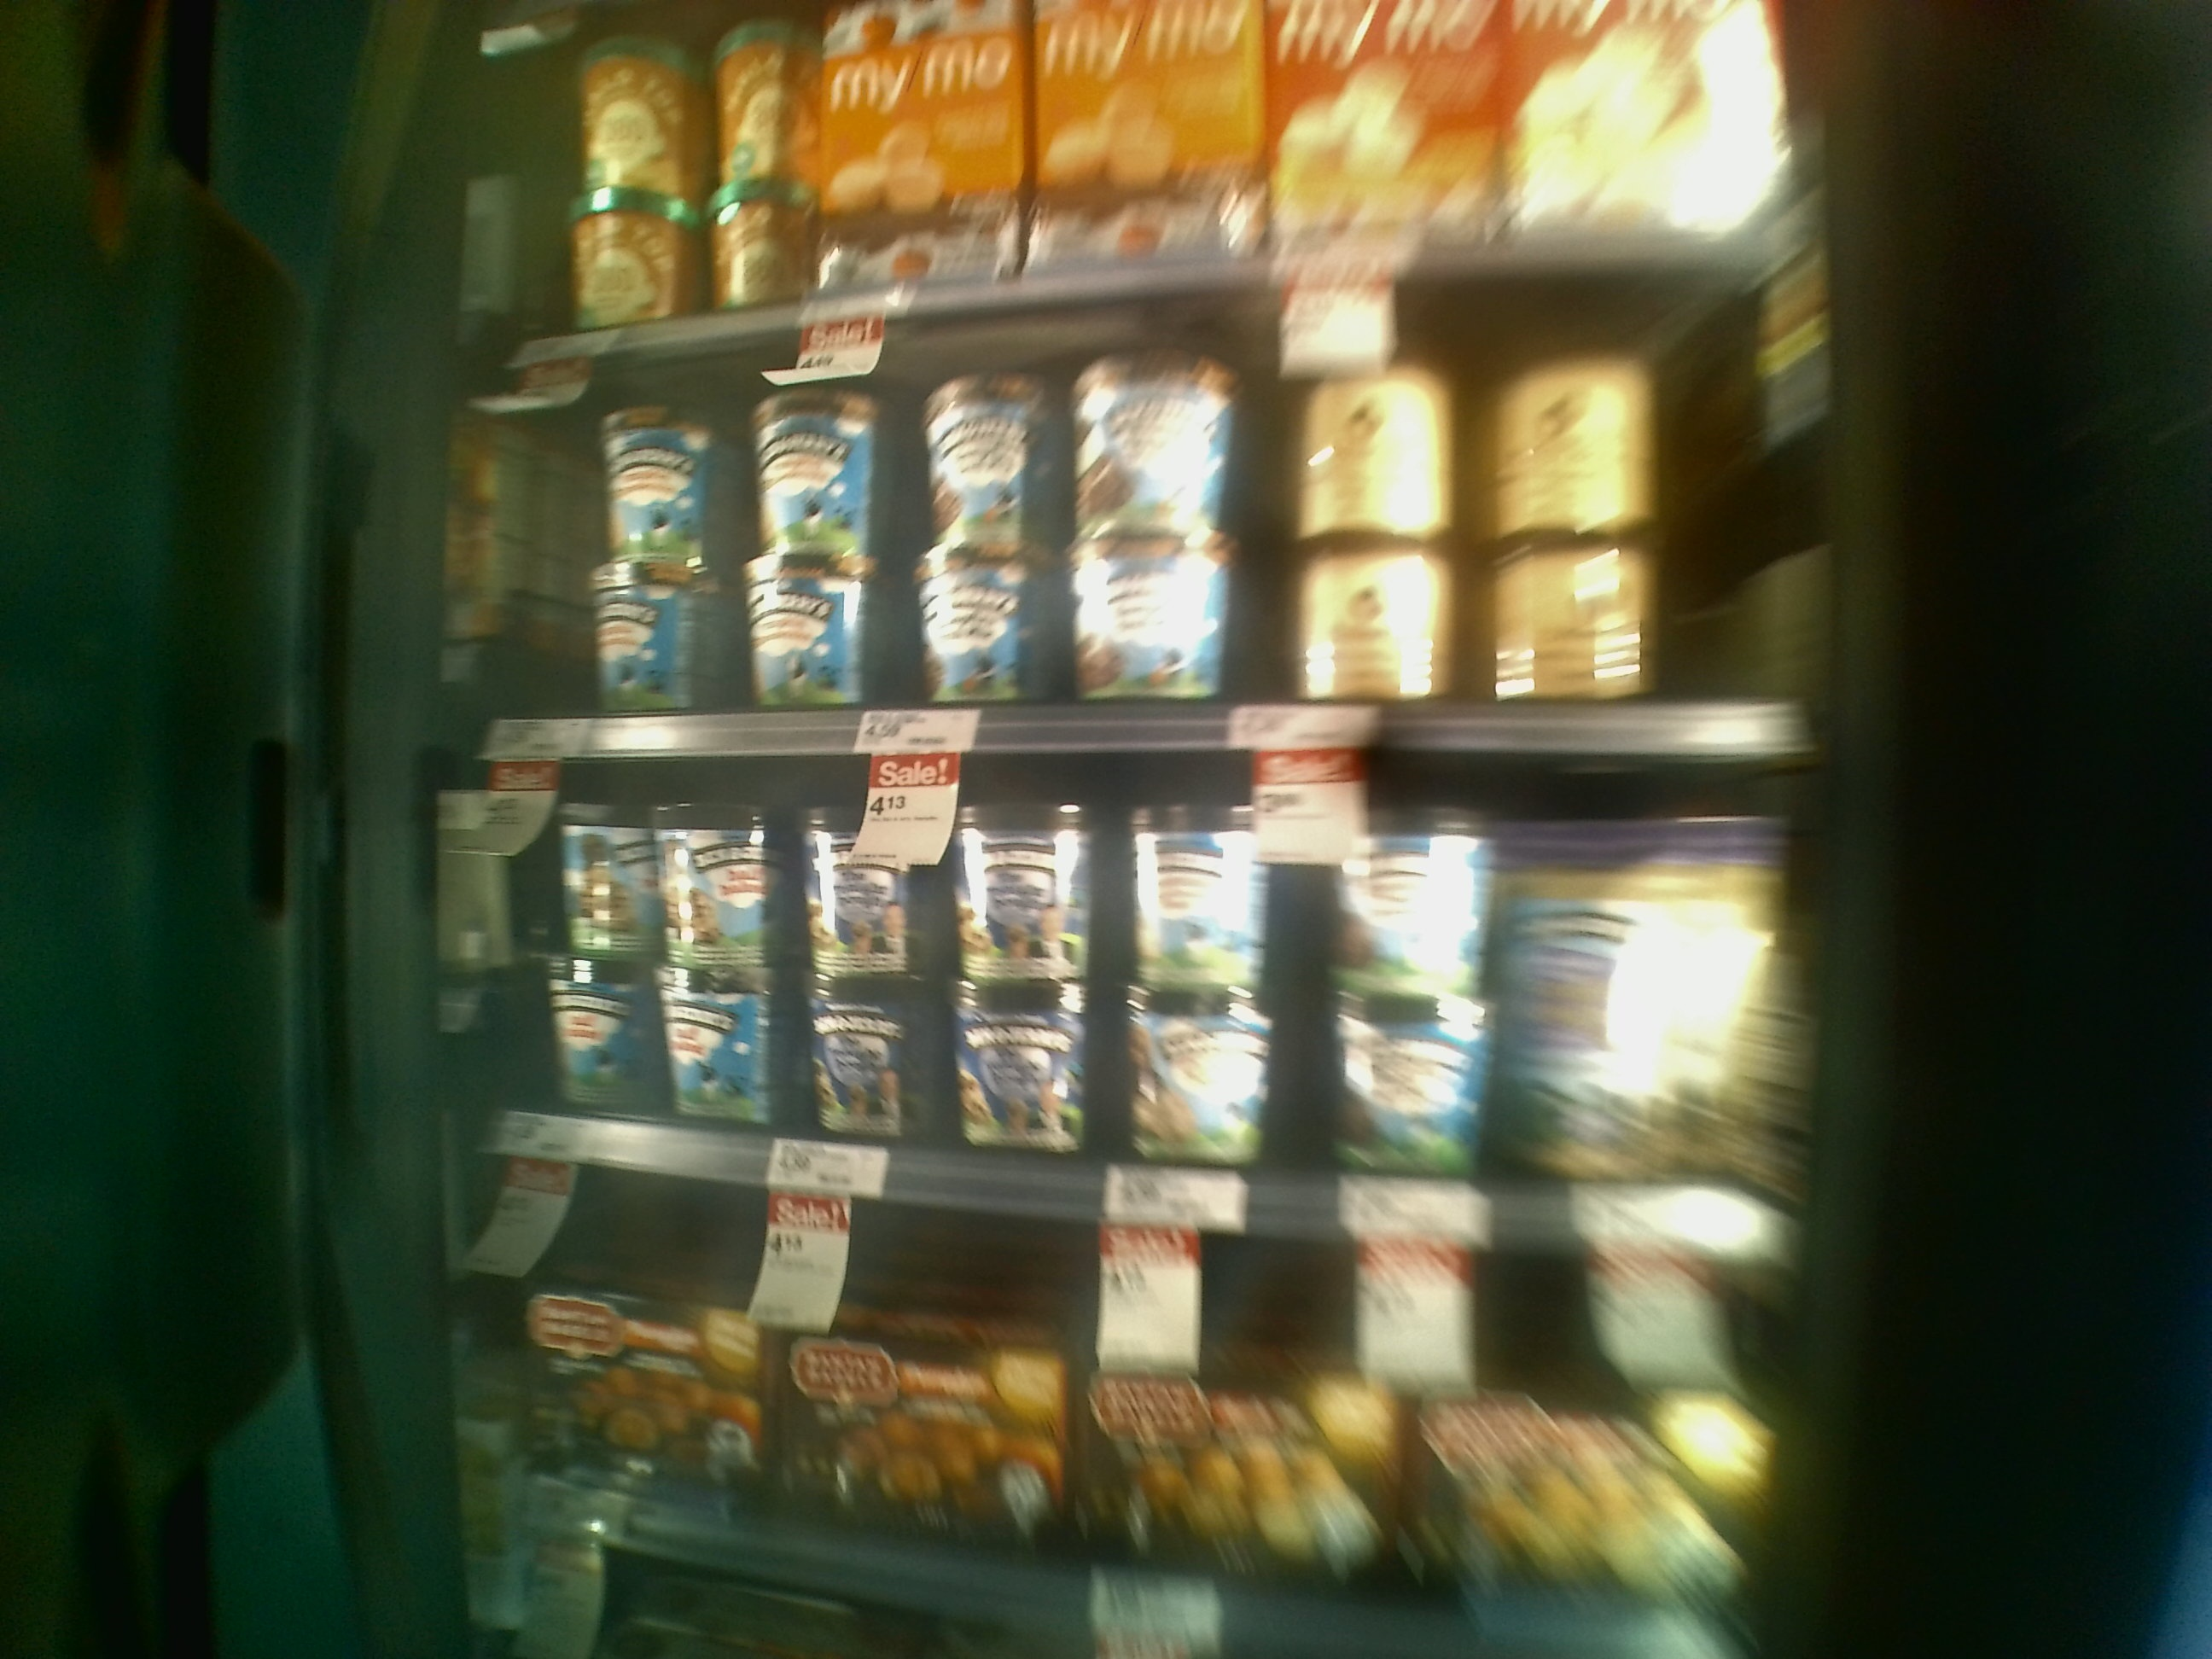shelf: (408, 742, 1792, 1260), (441, 310, 1806, 760)
